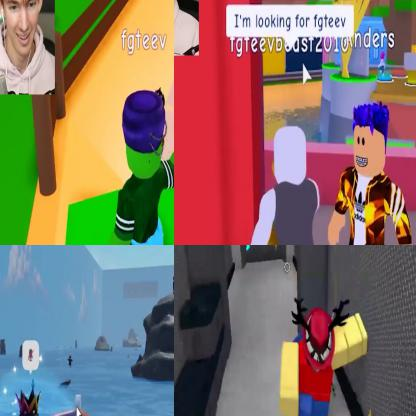Roblox-Avatar: (329, 101, 416, 245), (101, 87, 174, 245), (280, 297, 369, 416), (244, 127, 322, 245), (6, 380, 68, 416)
